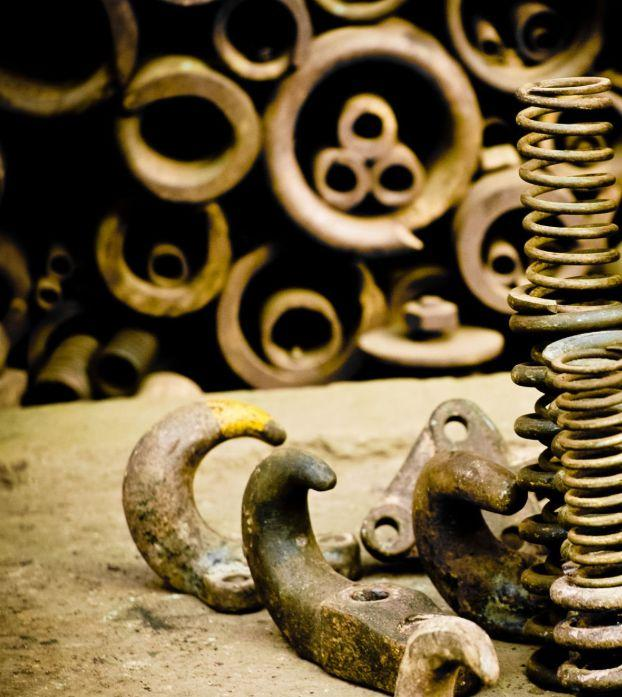metal: (72, 4, 284, 383), (241, 451, 490, 695), (326, 79, 509, 365), (120, 399, 359, 609), (524, 330, 622, 697), (359, 399, 508, 566), (511, 77, 618, 309), (114, 57, 260, 208), (449, 1, 602, 96), (509, 367, 581, 547), (3, 231, 72, 399), (214, 0, 306, 84), (510, 113, 618, 162), (32, 332, 100, 399), (556, 440, 620, 502), (96, 327, 160, 384)
